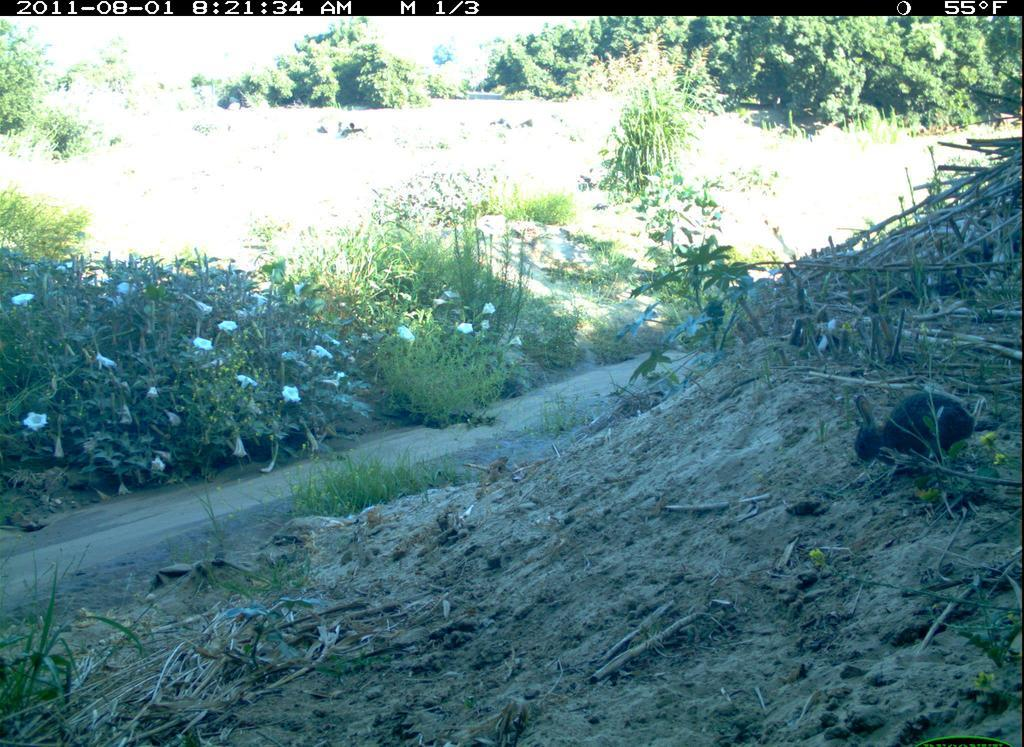rabbit: (852, 390, 977, 468)
